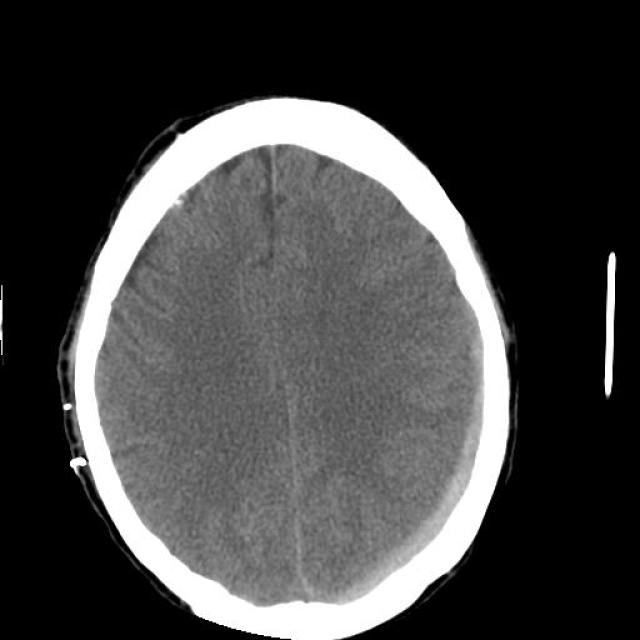Subdural: (338, 363, 528, 635)
